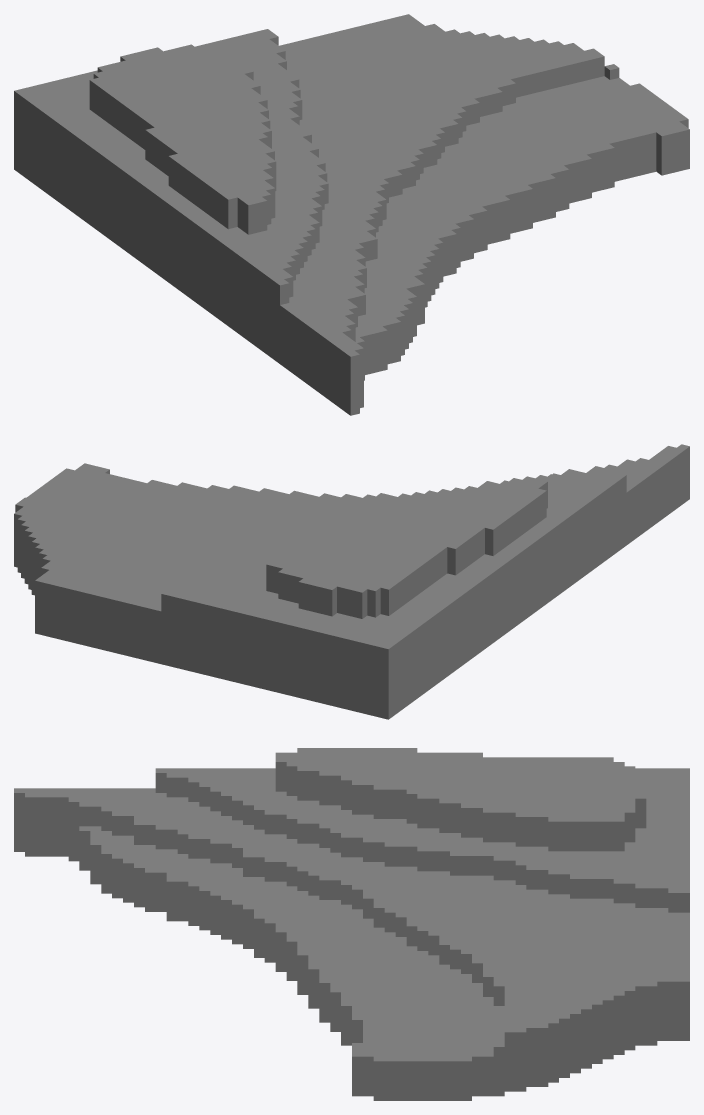
File: Main Island-35.obj
3 renders of one model, top to bottom at view 1: azimuth 30°, elevation 25°; view 2: azimuth 150°, elevation 25°; view 3: azimuth 270°, elevation 25°, orthographic. The views are drawn at different scales.
Visible parts, largest first — view 1: Main Island-17; view 2: Main Island-17; view 3: Main Island-17.
Part boxes in pixels (x1,y1,x2,y2): Main Island-17: (14,14,689,415); Main Island-17: (14,444,689,719); Main Island-17: (14,748,689,1100).
Bounding box in the file's own units: 55 × 11 × 62.
1 material, 1 textured.
